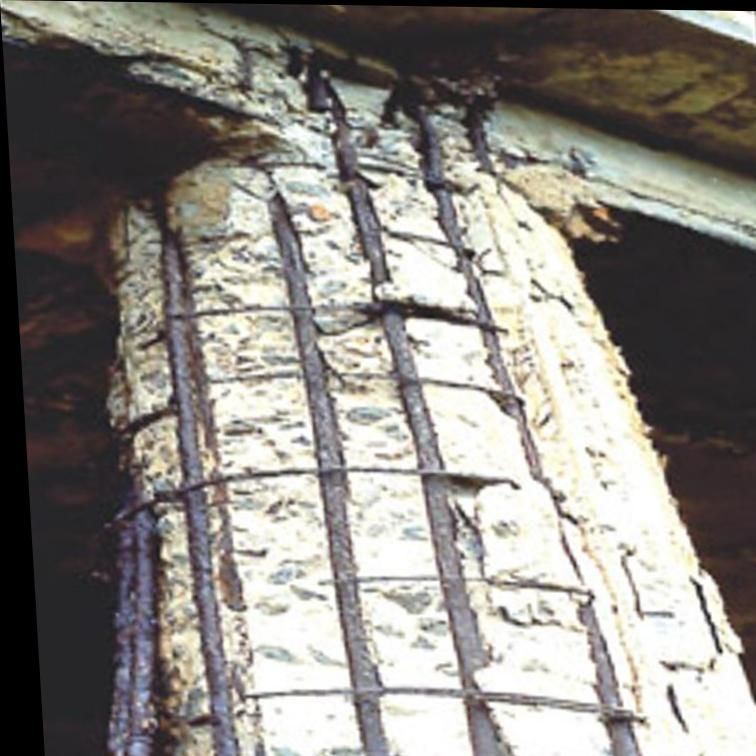damage: (88, 31, 756, 756)
